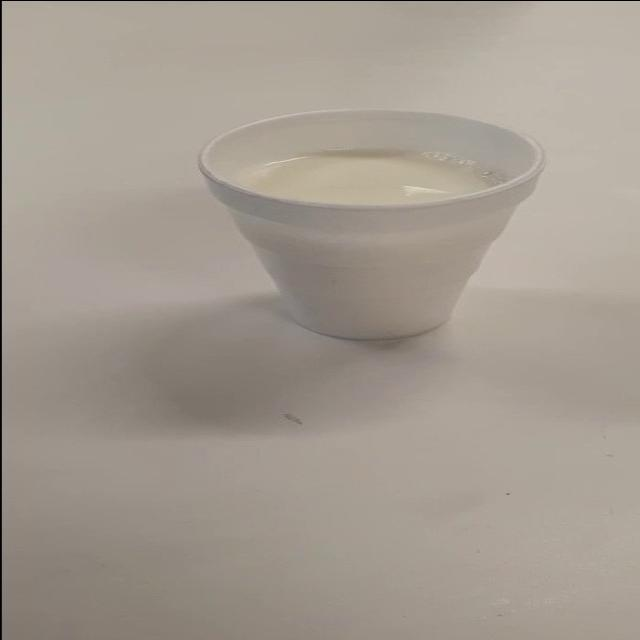Milk: (195, 92, 571, 367)
